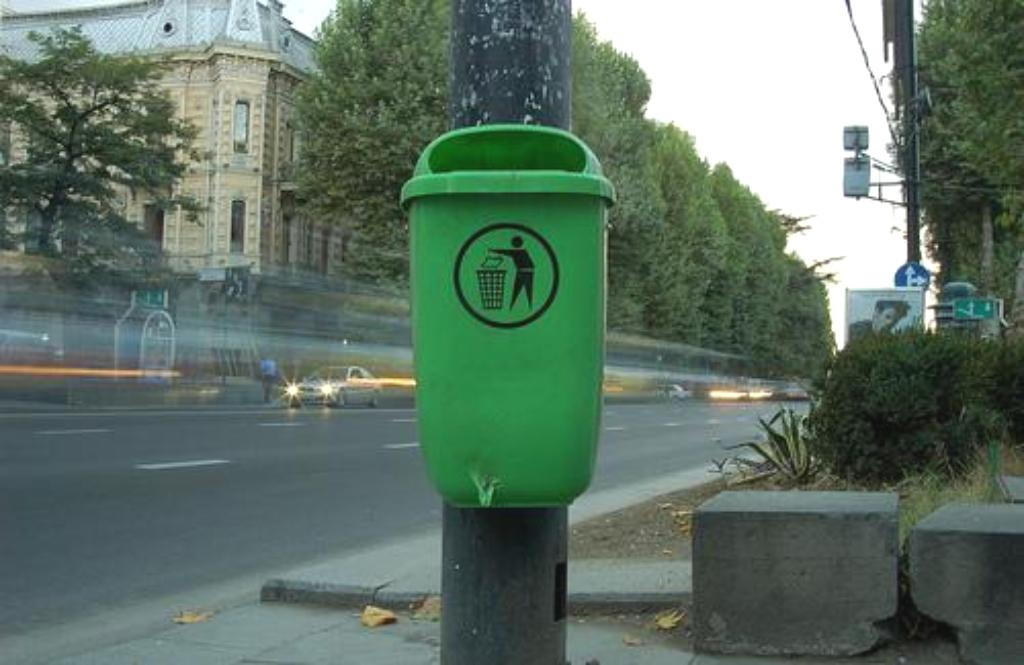dustbin: (392, 109, 624, 520)
